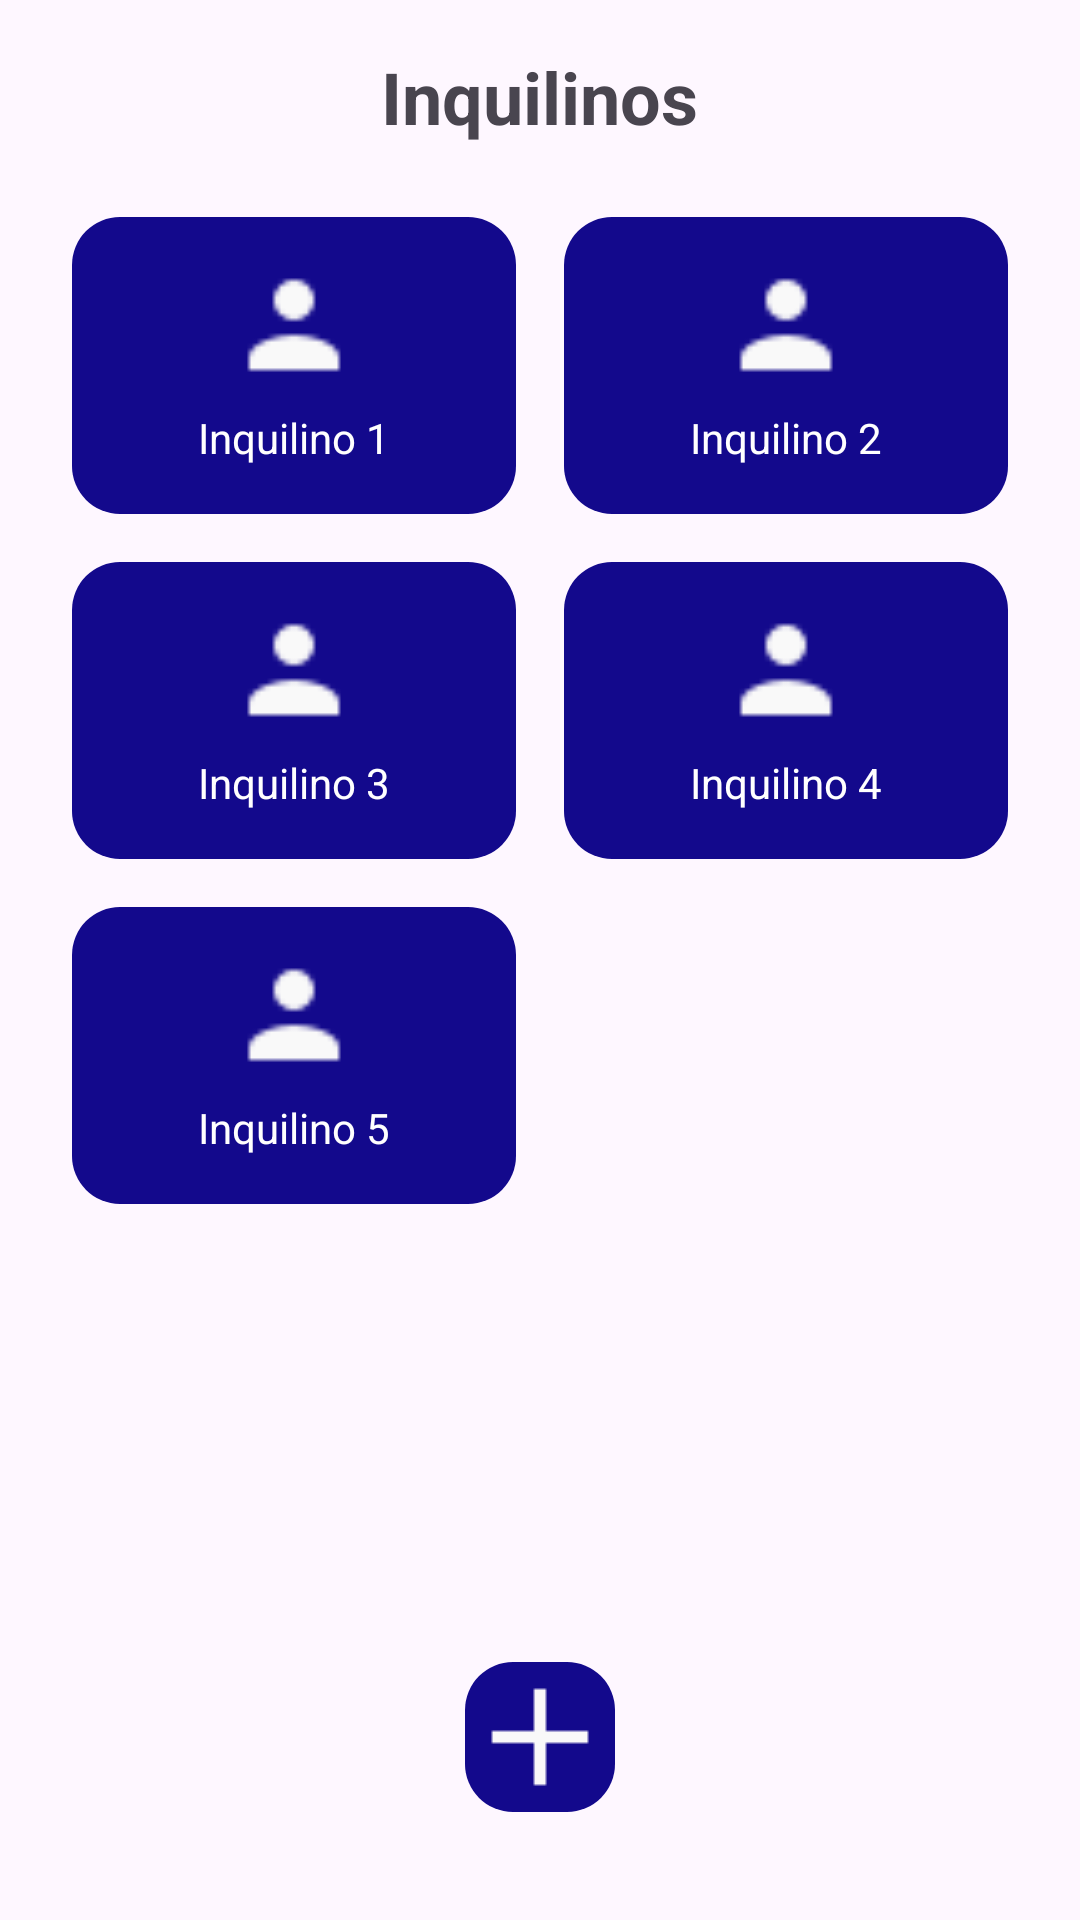

Locate icon controls on the screen. Image size 1080*1920, boxes as (x1, y1, x2, y2).
agregar: (465, 1662, 615, 1812)
usuario: (247, 278, 341, 372), (739, 278, 833, 372), (247, 623, 341, 717), (739, 623, 833, 717), (247, 968, 341, 1062)
